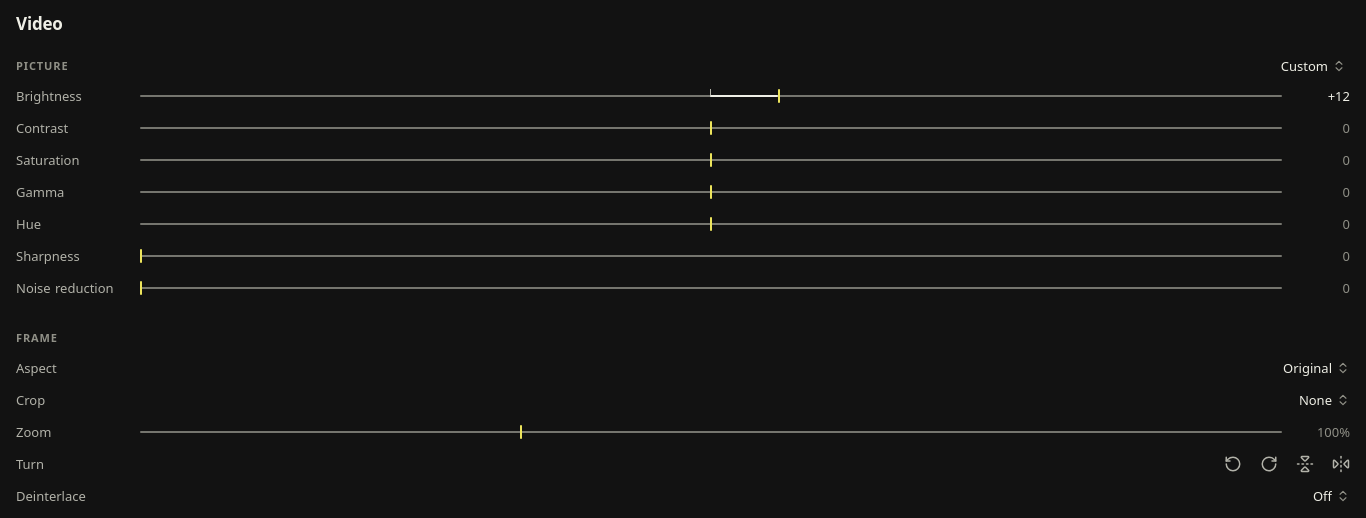
Test: the Picture group › is reset through its preset picker, whose first choice is Neutral, and has no Reset of its own
The image size is (1366, 518).
Later steps or results of the test are not shown.
What coordinates should you click on to do the following:
click the button "Custom"
I would click on:
 (1311, 66)
Its box is x1=1273 y1=52 x2=1350 y2=80.
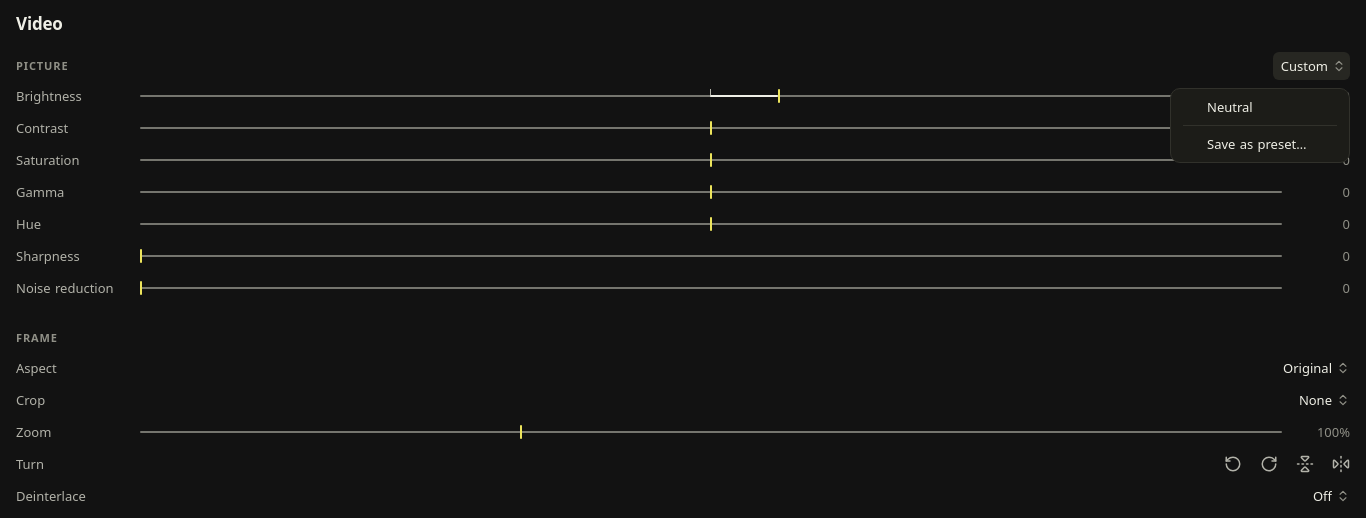
Expected: the menu item "Neutral" is shown, x1=1207 y1=98 x2=1253 y2=116
